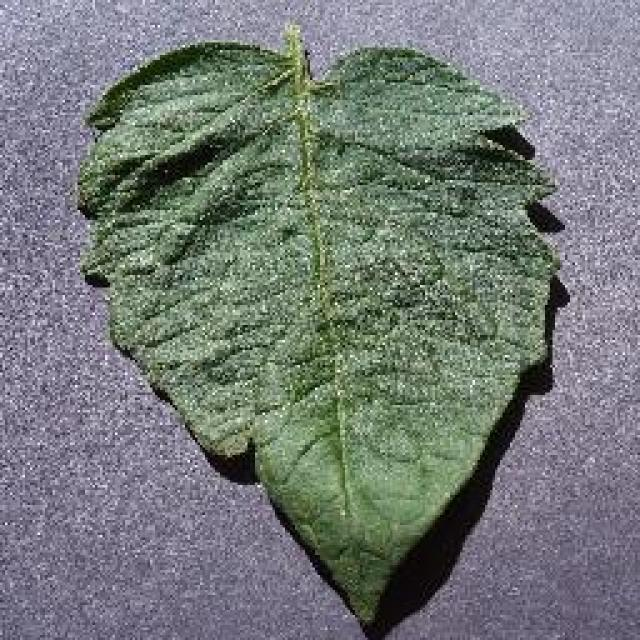Tomato___healthy: (71, 22, 567, 627)
